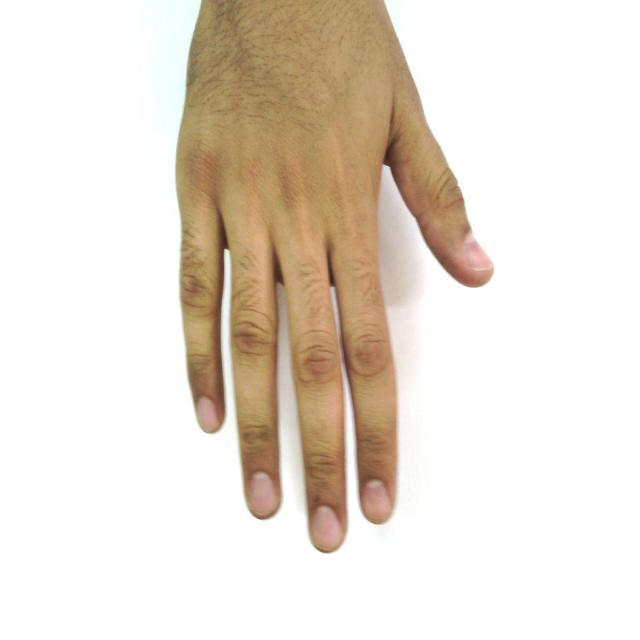Fingernail: (312, 507, 342, 549), (250, 473, 277, 516), (363, 481, 391, 521), (465, 235, 492, 270), (197, 398, 219, 432)
